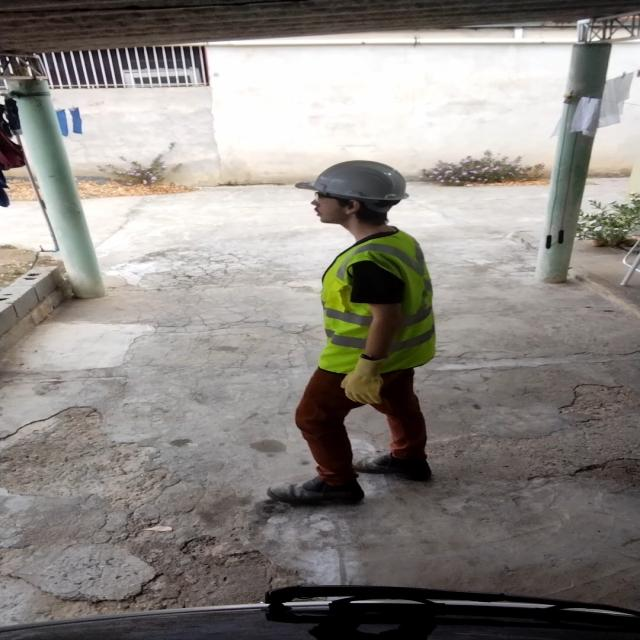glove: (330, 352, 390, 411)
helmet: (287, 157, 418, 214)
pants: (289, 366, 424, 467)
vest: (306, 230, 442, 373)
